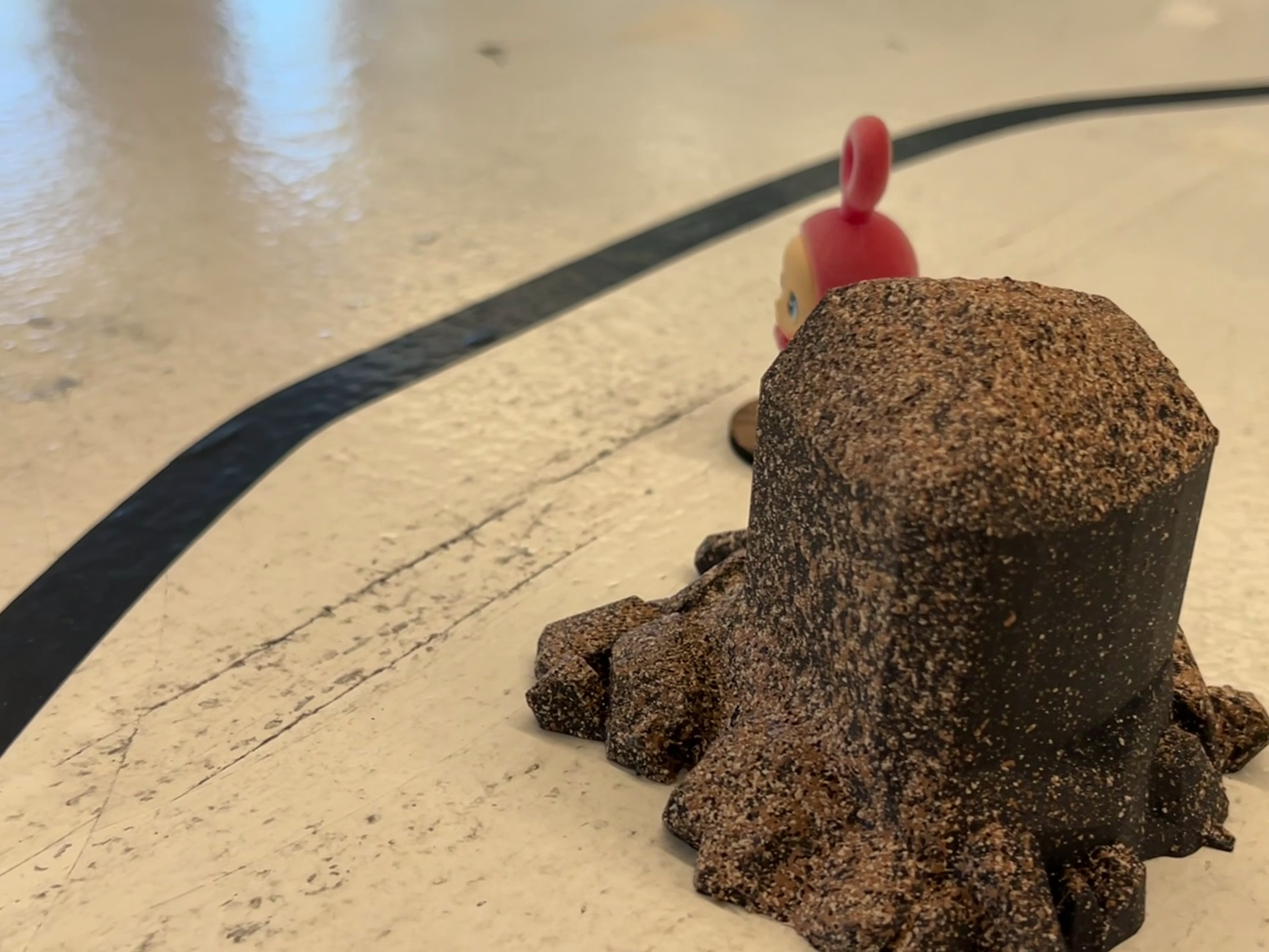teletubby: (773, 116, 918, 351)
